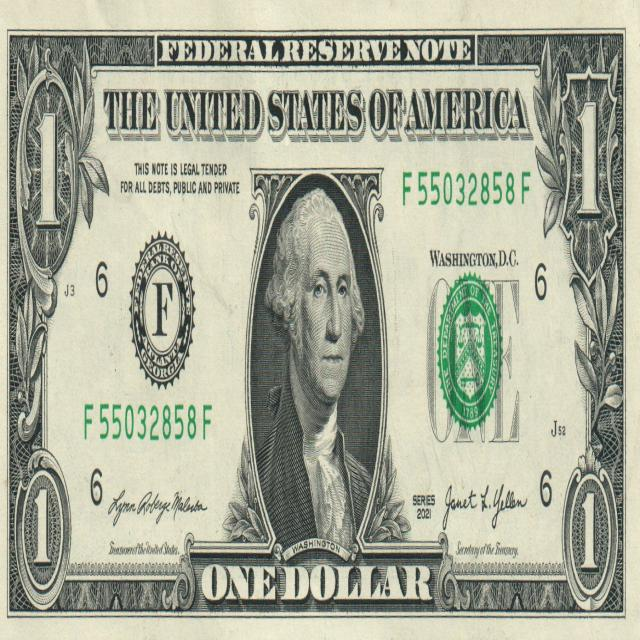SerialNumber: (84, 404, 211, 441), (403, 171, 530, 206)
